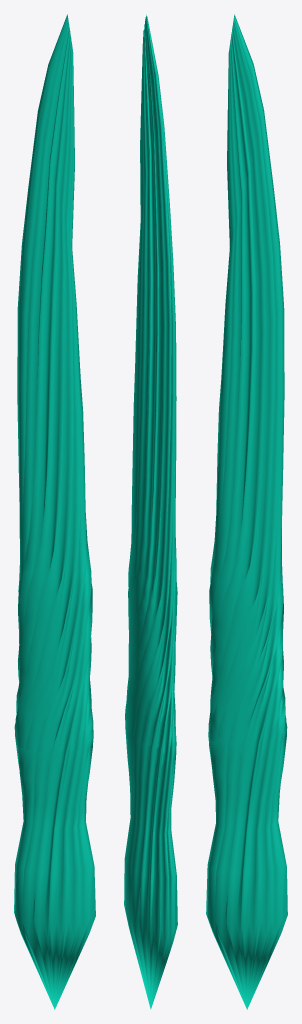
Rendered from Cream2.fbx.
3 views of the same model, side by side, from view 1: azimuth 90°, elevation 25°; view 2: azimuth 210°, elevation 25°; view 3: azimuth 270°, elevation 25° (orthographic).
Visible parts, largest first — view 1: Sikilan_krema2; view 2: Sikilan_krema2; view 3: Sikilan_krema2.
Part boxes in pixels (x1,y1,x2,y2): Sikilan_krema2: [14, 14, 95, 1009]; Sikilan_krema2: [124, 14, 177, 1009]; Sikilan_krema2: [206, 14, 287, 1009].
Size of the model in its own units: 0.0323 by 0.8853 by 0.066.
